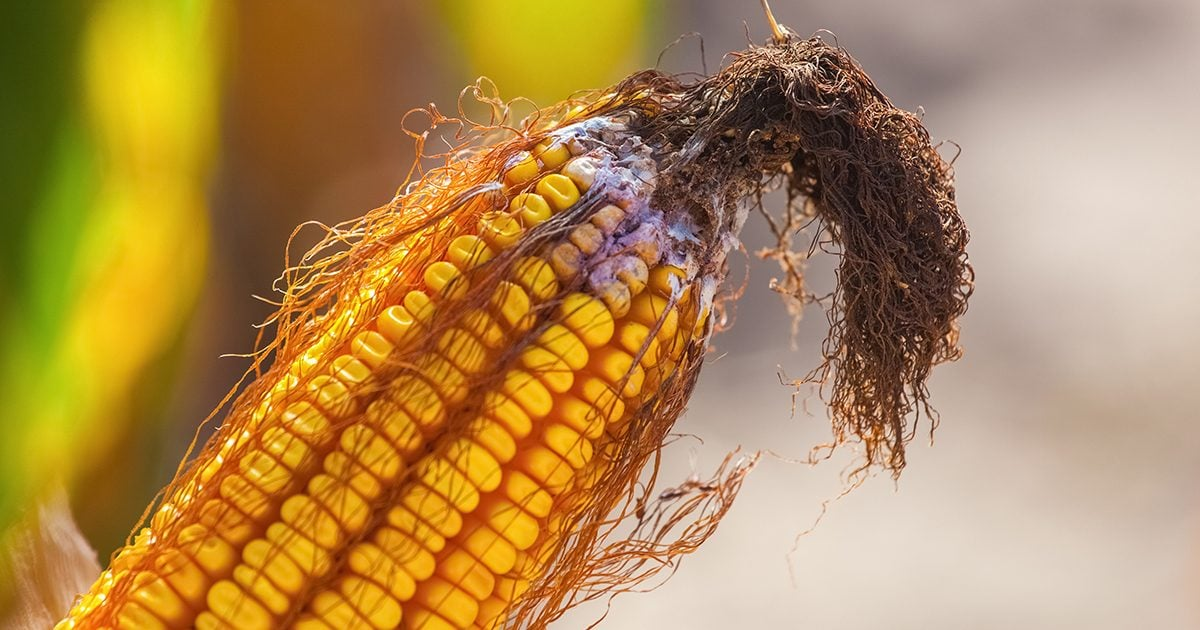corn: (70, 45, 1018, 628)
